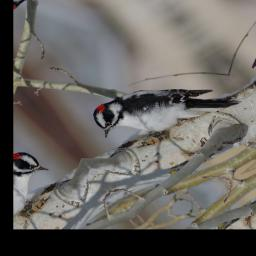Woodpecker: (84, 51, 244, 167)
